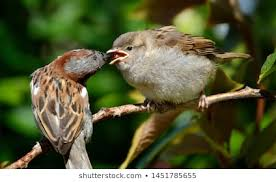home_sparrow: (100, 28, 255, 116), (26, 40, 105, 168)
